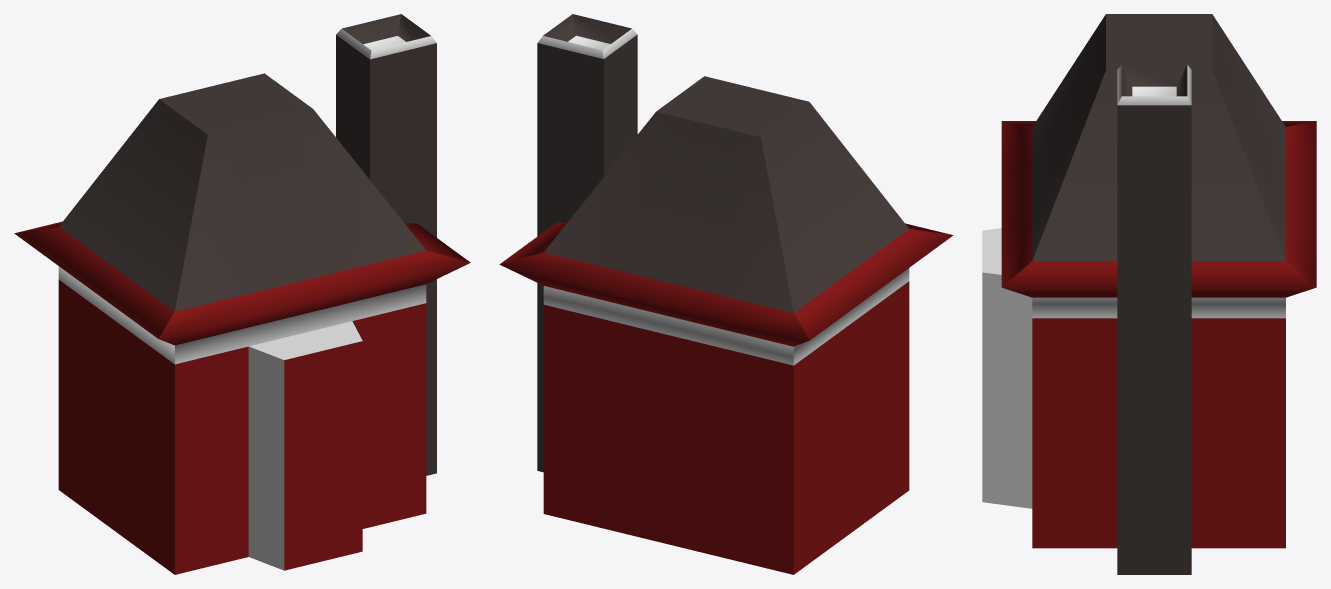
The model's file is House.fbx.
3 renders of one model, left to right at view 1: azimuth 30°, elevation 25°; view 2: azimuth 150°, elevation 25°; view 3: azimuth 270°, elevation 25°, orthographic. The views are drawn at different scales.
Visible parts, largest first — view 1: pCube3; view 2: pCube3; view 3: pCube3.
Boxes of the visible parts, box(x1,y1,x2,y2) form: pCube3: box(14, 14, 470, 574); pCube3: box(499, 14, 953, 574); pCube3: box(982, 14, 1316, 574).
Bounding box in the file's own units: 0.2595 × 0.3268 × 0.2078.
